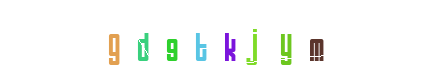9: (160, 0, 240, 80)
D: (117, 0, 197, 80)
G: (88, 0, 168, 80)
J: (189, 0, 269, 80)
K: (180, 0, 260, 80)
M: (276, 0, 356, 80)
T: (180, 0, 260, 80)
Y: (232, 0, 312, 80)
